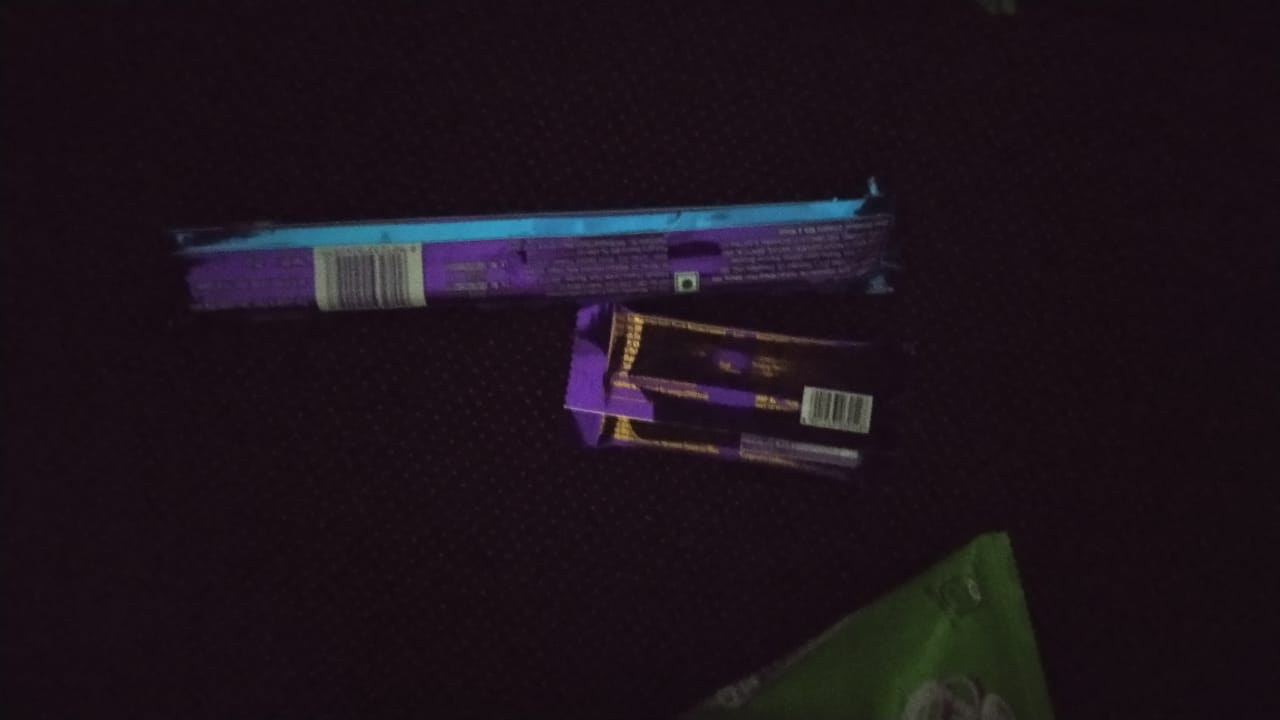dairy milk: (573, 316, 907, 476)
perk: (161, 198, 922, 308)
